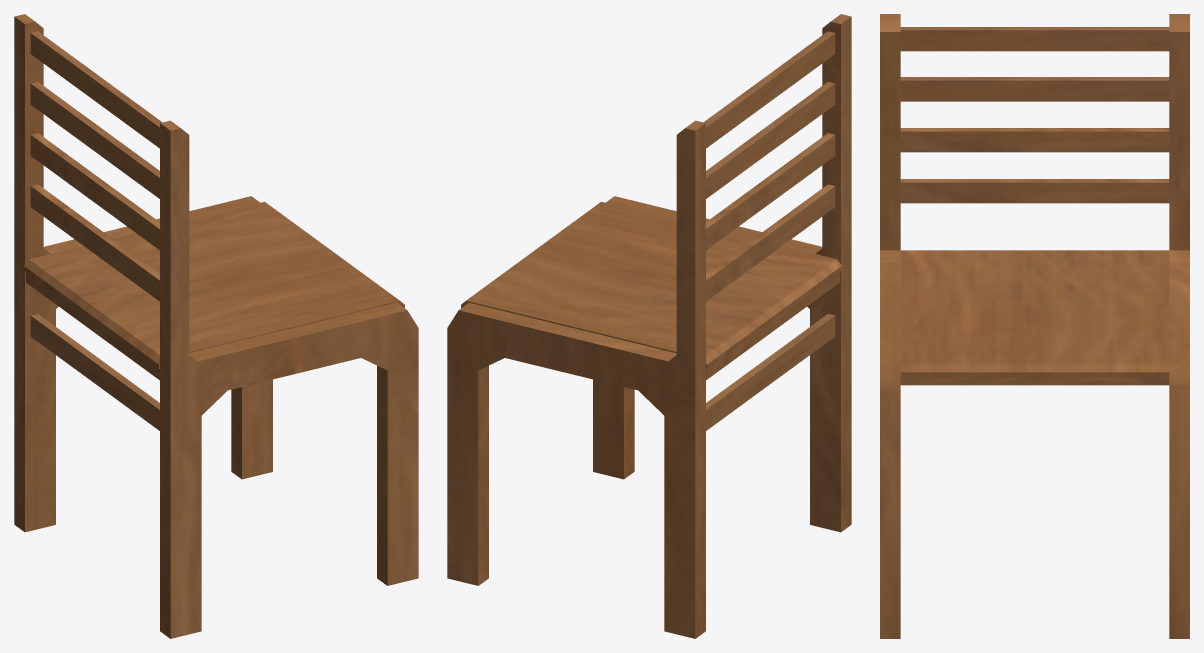
File: stool_2.FBX
3 views of the same model, side by side, from view 1: azimuth 30°, elevation 25°; view 2: azimuth 150°, elevation 25°; view 3: azimuth 270°, elevation 25° (orthographic).
Visible parts, largest first — view 1: stool_2; view 2: stool_2; view 3: stool_2.
Boxes of the visible parts, x1,y1,x2,y2 form: stool_2: (14,14,418,638); stool_2: (447,14,851,638); stool_2: (880,14,1189,638).
Bounding box in the file's own units: 19.14 × 37.32 × 20.76.
